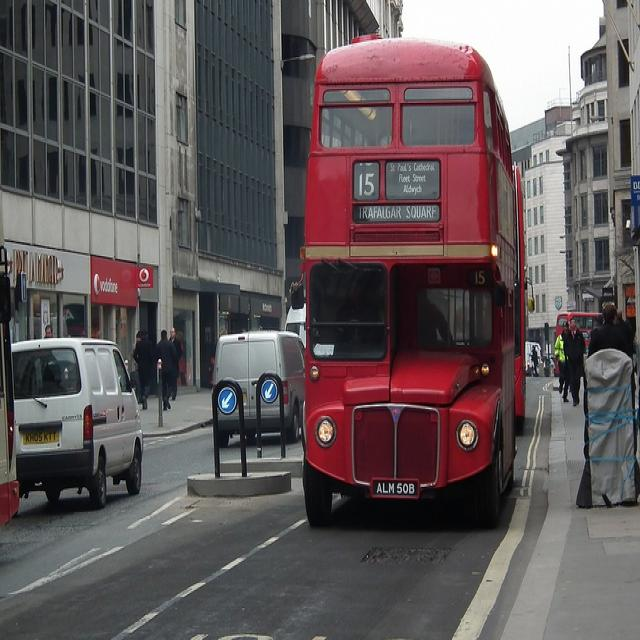Vehicle: (306, 36, 519, 528), (12, 336, 144, 510), (17, 336, 146, 514), (213, 329, 304, 450), (0, 173, 18, 525), (554, 310, 604, 378)
